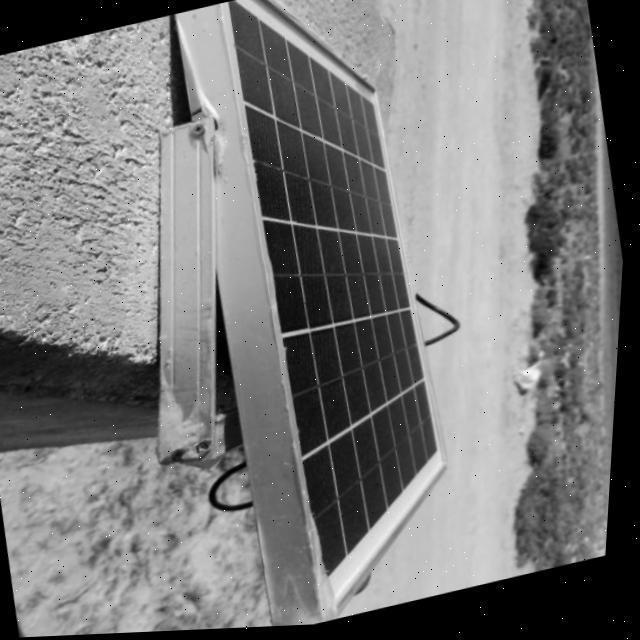Normal Solar Panel: (193, 0, 498, 632)
